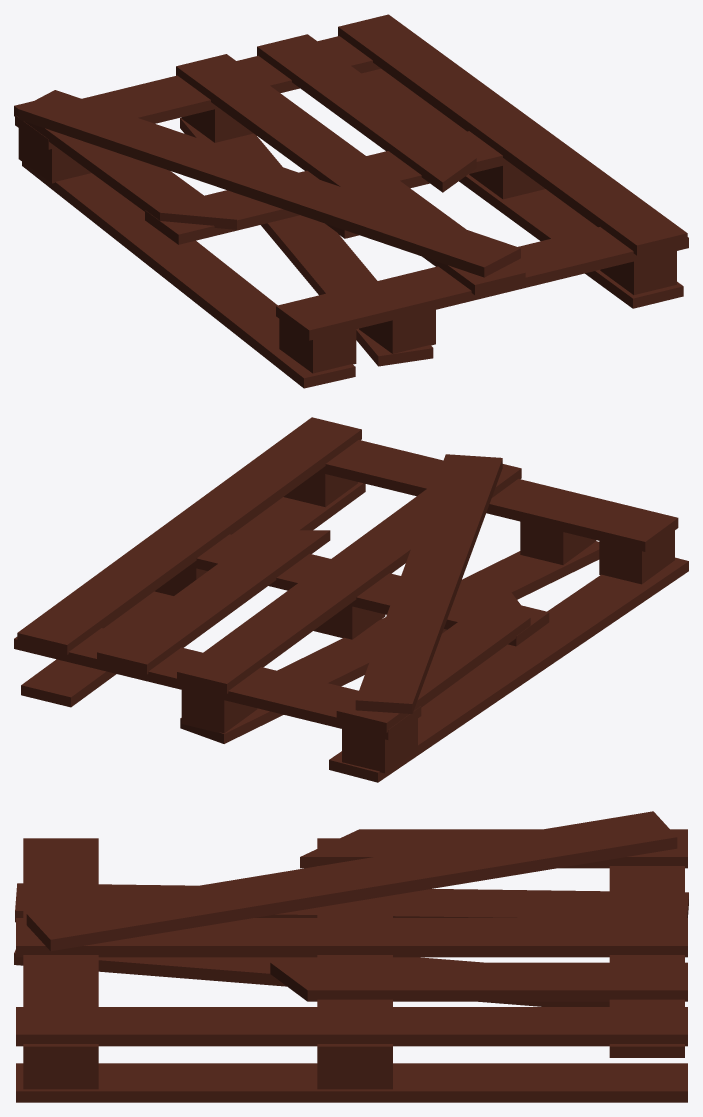
Rendered from PALLET BROKEN.fbx.
3 views of the same model, one above another, from view 1: azimuth 30°, elevation 25°; view 2: azimuth 150°, elevation 25°; view 3: azimuth 270°, elevation 25° (orthographic). The views are drawn at different scales.
Visible parts, largest first — view 1: Pallet_Broken; view 2: Pallet_Broken; view 3: Pallet_Broken.
Boxes of the visible parts, left/top/right/bottom form: Pallet_Broken: left=14, top=14, right=688, bottom=388; Pallet_Broken: left=14, top=417, right=688, bottom=782; Pallet_Broken: left=14, top=811, right=688, bottom=1102.
Size of the model in its own units: 91.73 by 16.39 by 122.
